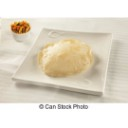poori: (41, 39, 91, 77)
